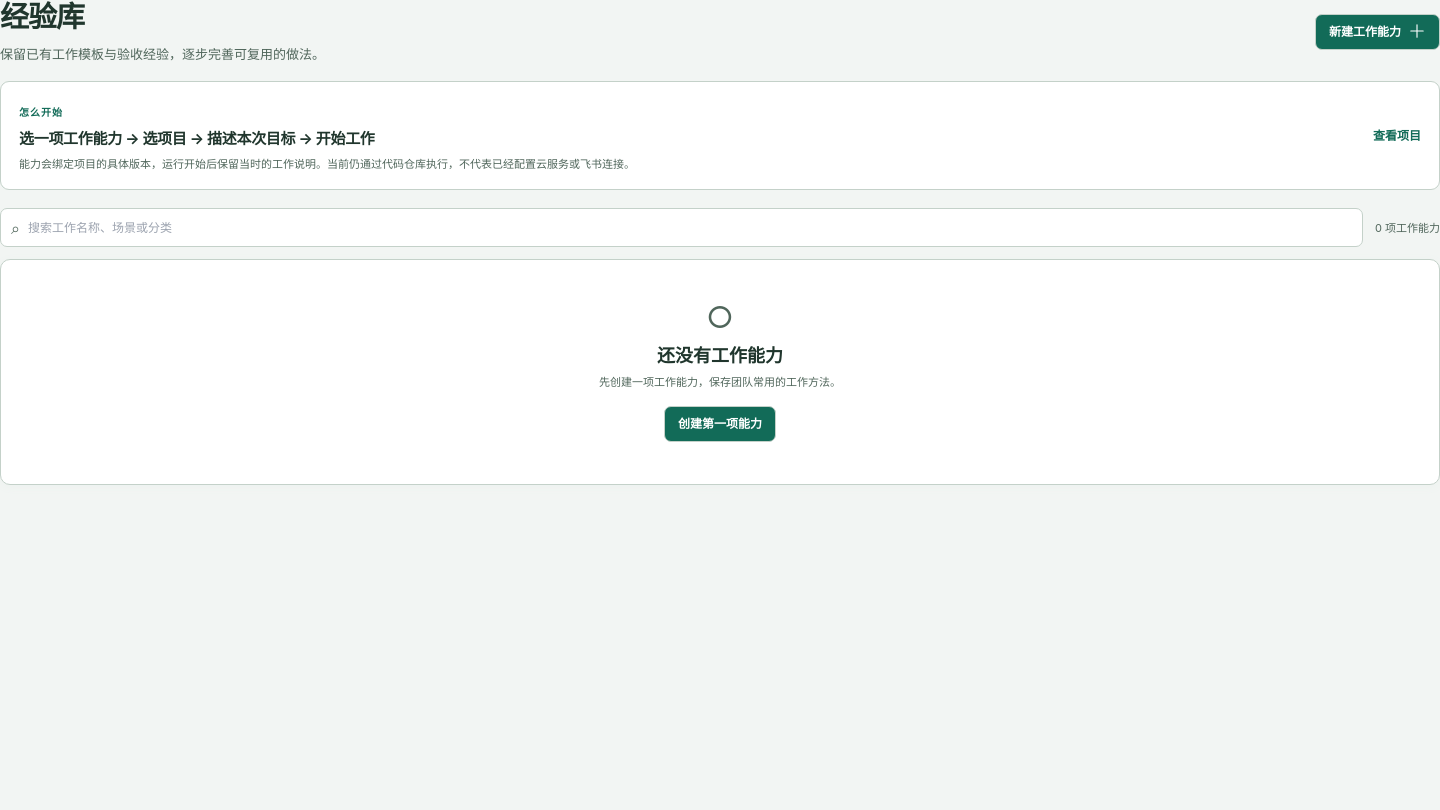
it: merges empty capability library into one actionable empty state
This screenshot has width=1440, height=810.
Expected: the heading "还没有工作能力" is shown, [657,342,783,370]
Click the button "创建第一项能力".
click(720, 424)  # box [664,406,776,442]
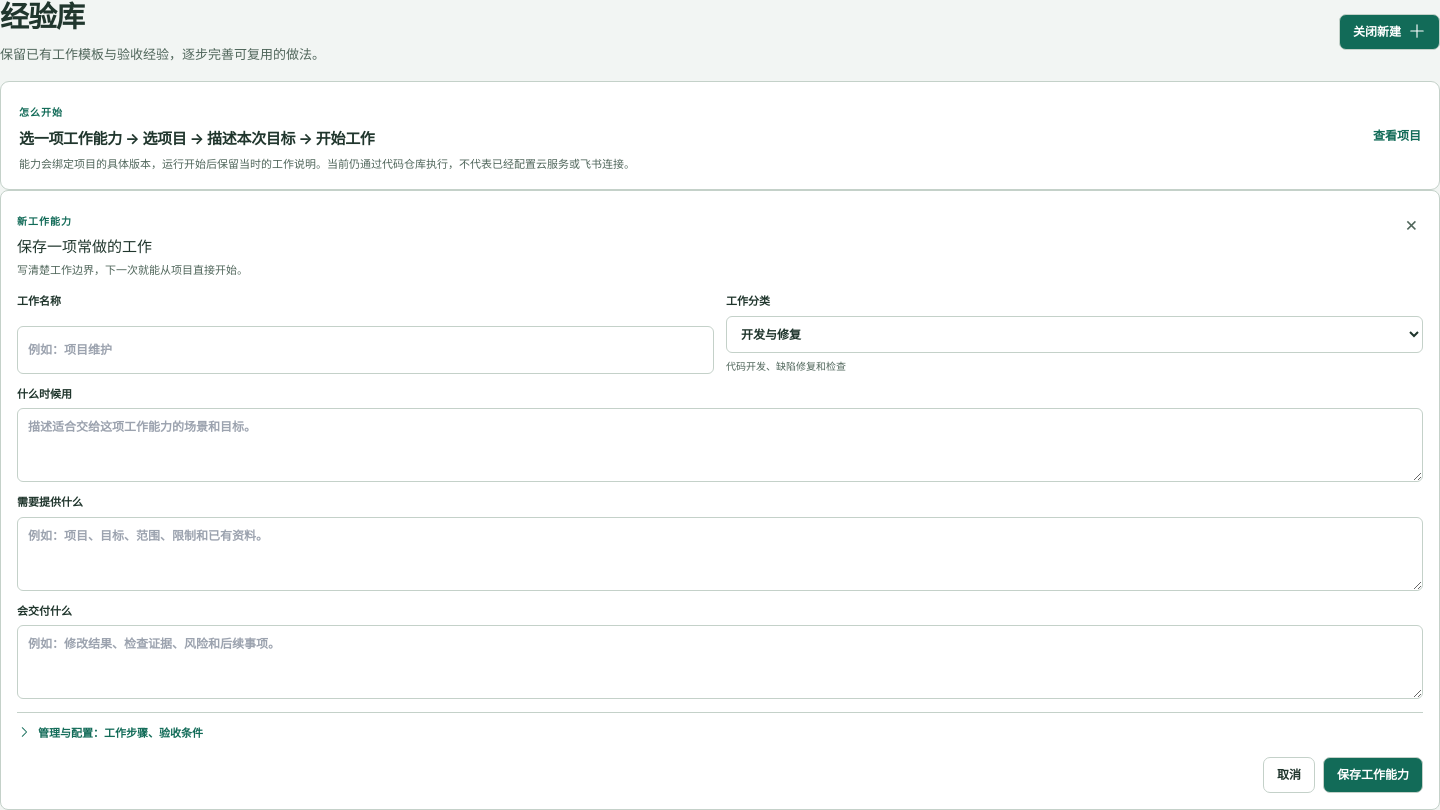
Expected: the button "关闭新建" is shown, [1339,14,1439,50]
